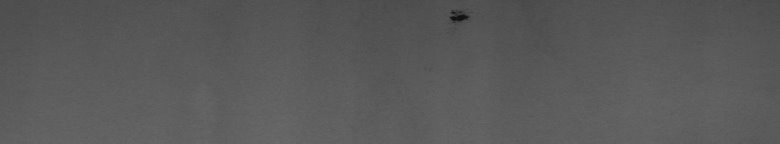fi: (444, 4, 479, 28)
